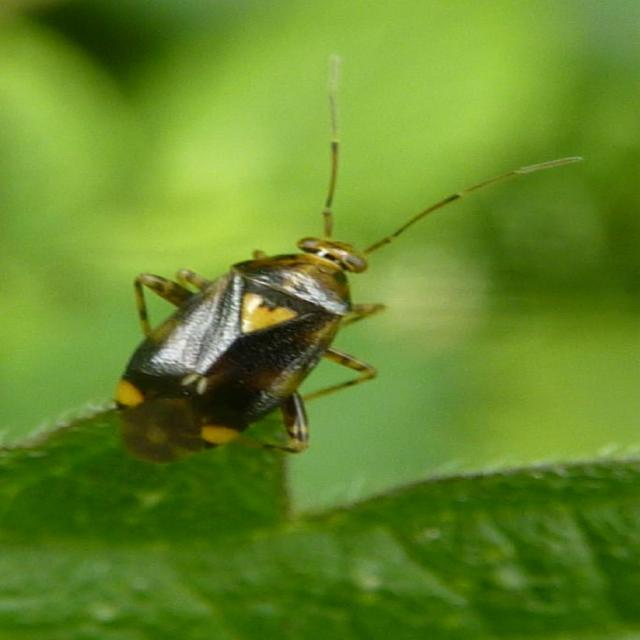Miridae-Adult-: (108, 48, 544, 466)
